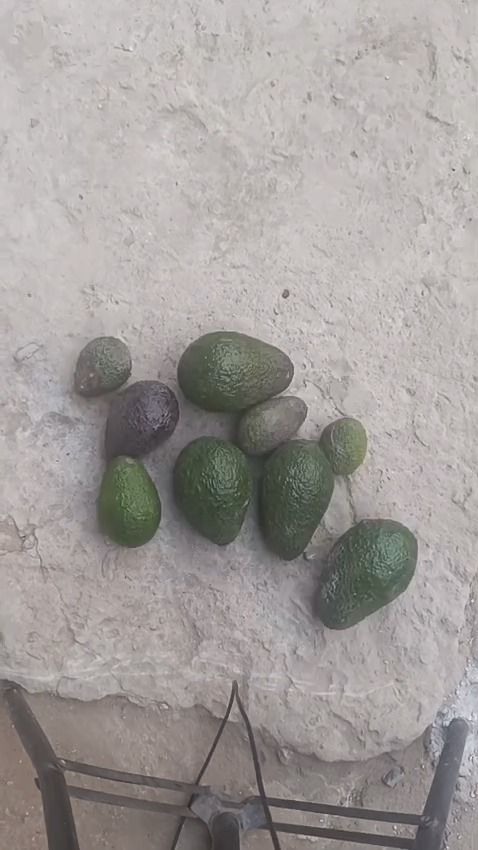Primera: (316, 520, 417, 629), (177, 330, 294, 411), (257, 439, 331, 559), (172, 436, 252, 544)
Segunda: (97, 455, 160, 548), (105, 381, 180, 459)
Tercera: (235, 395, 307, 457), (74, 336, 132, 396), (319, 417, 368, 476)
